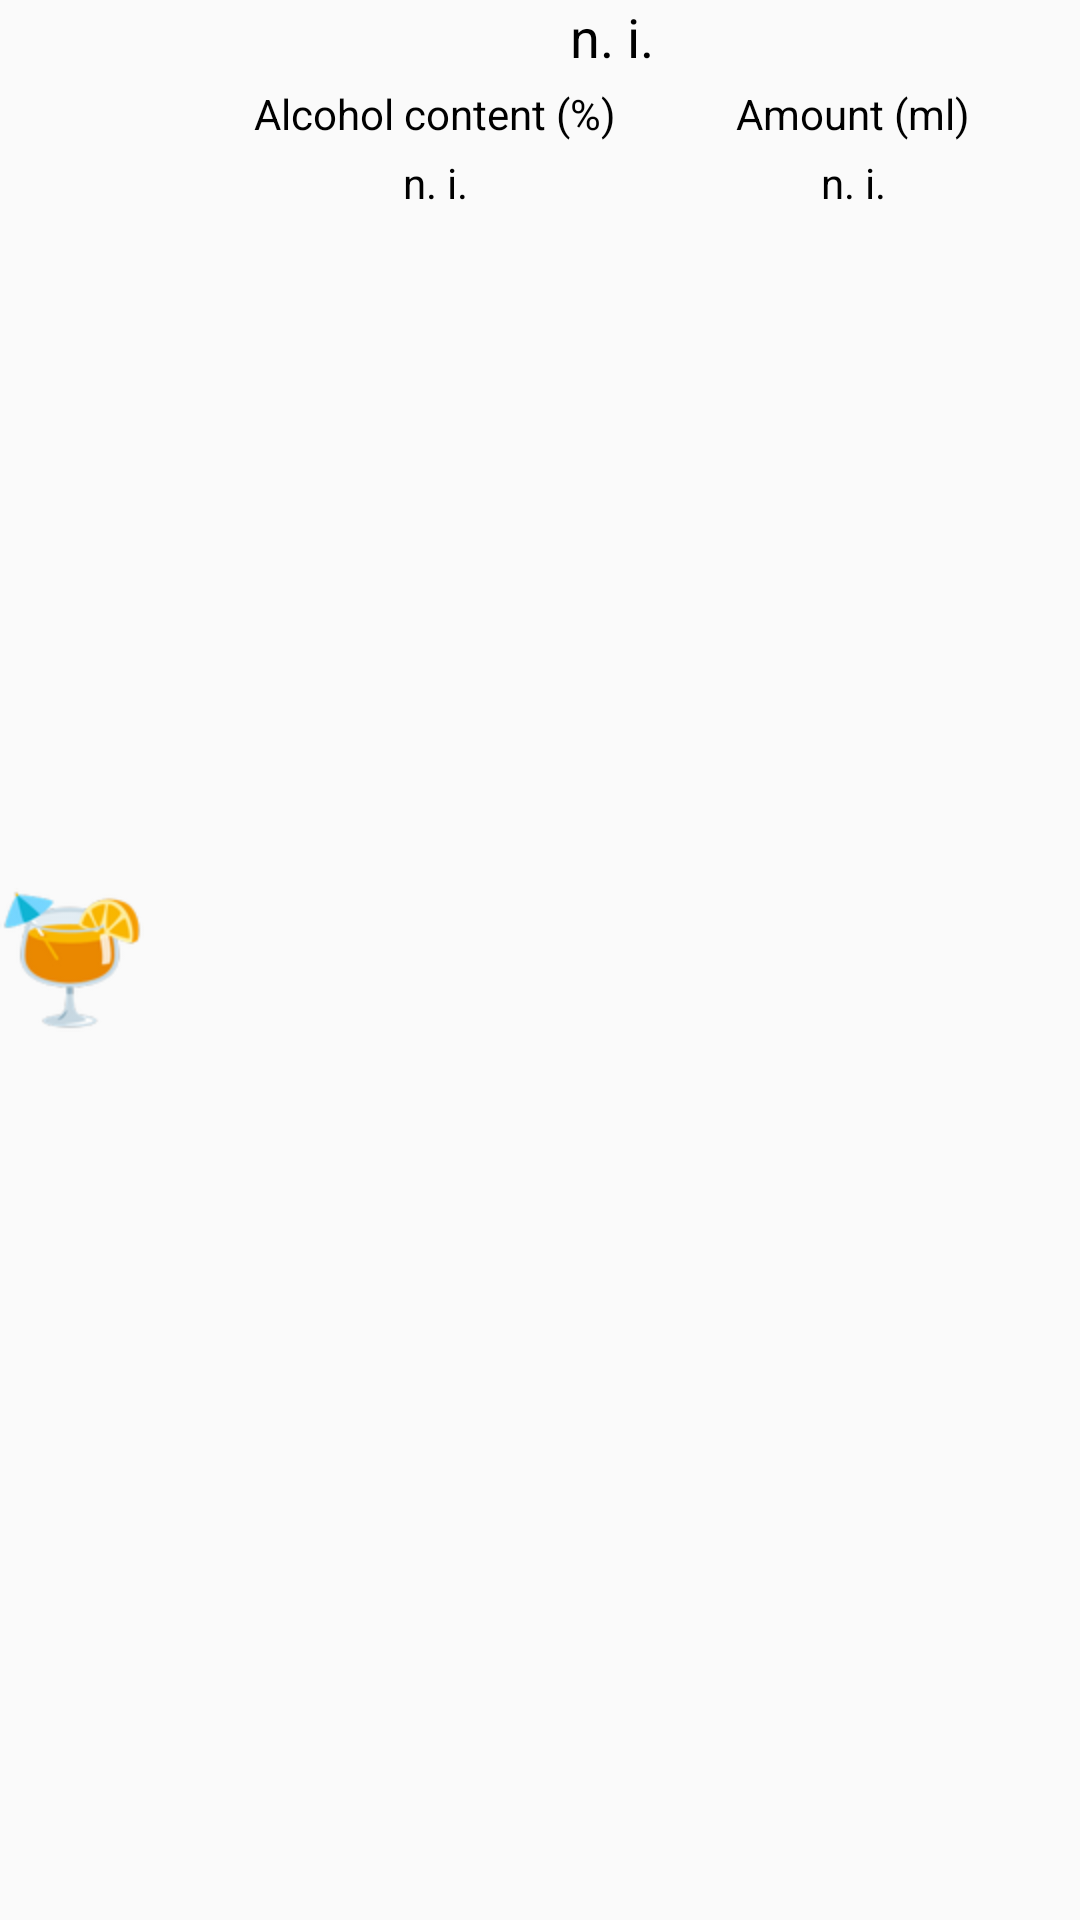

Named icons in this screenshot (1080×1920) and their bounding boxes, (x1, y1, x2, y2):
cocktail: (4, 892, 141, 1028)
